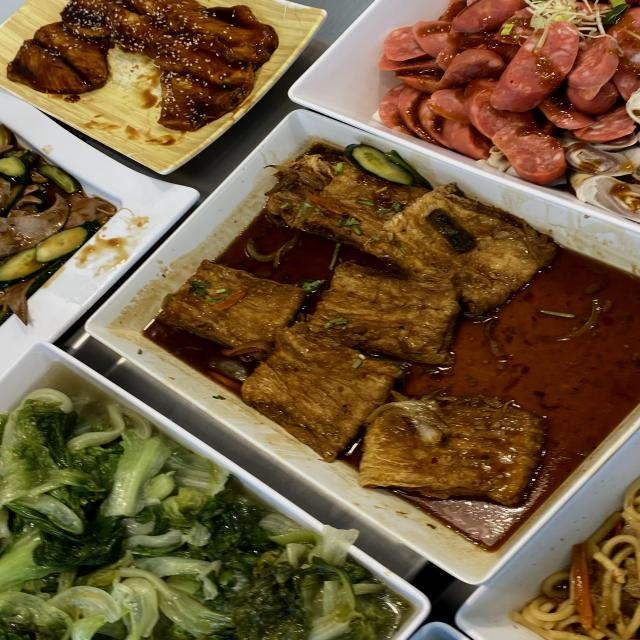bean bag: (239, 230, 528, 405)
